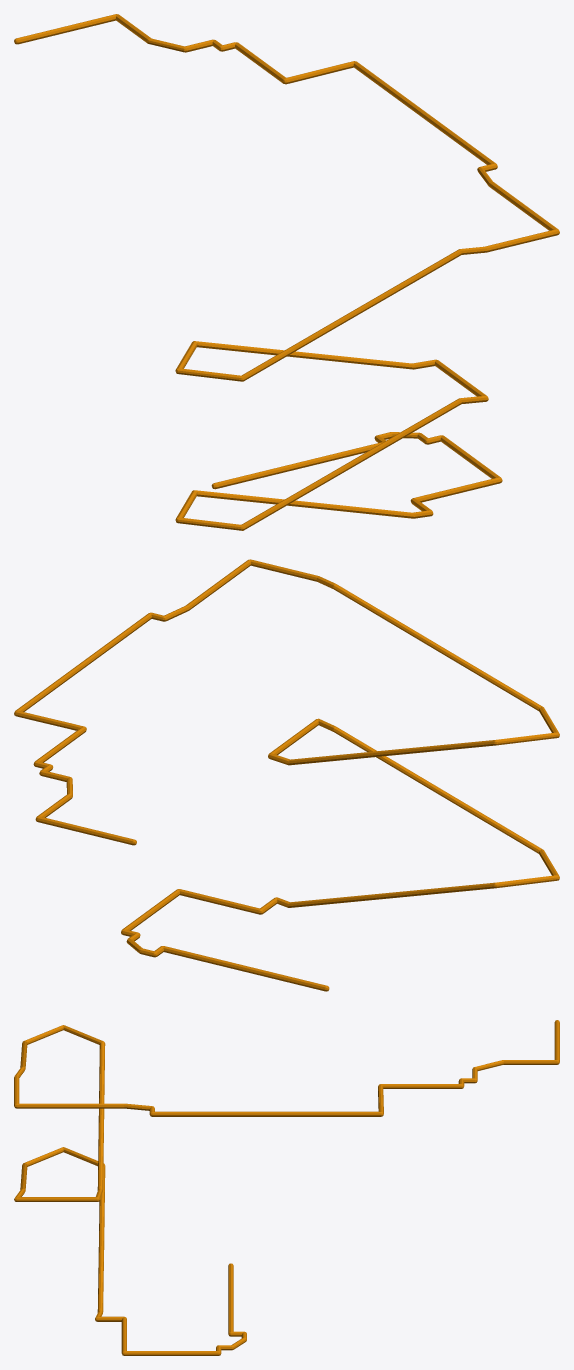
3 renders of one model, top to bottom at view 1: azimuth 30°, elevation 25°; view 2: azimuth 150°, elevation 25°; view 3: azimuth 270°, elevation 25°, orthographic. The views are drawn at different scales.
Bounding box in the file's own units: 1319 × 1020 × 2028.
